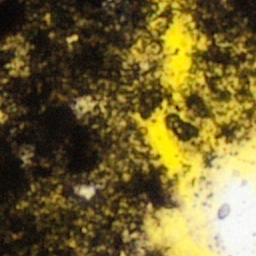cement_matrix: (0, 0, 173, 255), (181, 0, 255, 122), (168, 89, 213, 142), (218, 122, 241, 139), (222, 74, 238, 90), (78, 185, 95, 198), (77, 98, 94, 111)
cracks: (130, 0, 255, 255), (167, 88, 214, 143), (217, 121, 242, 140), (250, 81, 255, 103)
gravel_crushed_stones: (184, 156, 255, 255), (223, 75, 237, 89), (79, 186, 94, 197), (78, 99, 93, 110)
